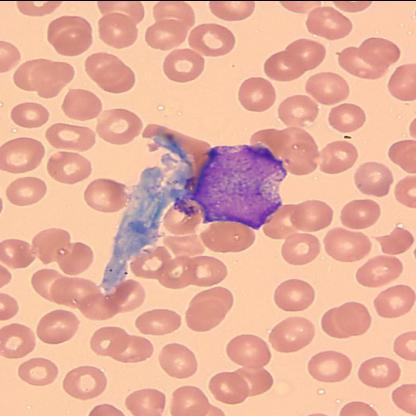Promyelocyte: (174, 144, 289, 230)
